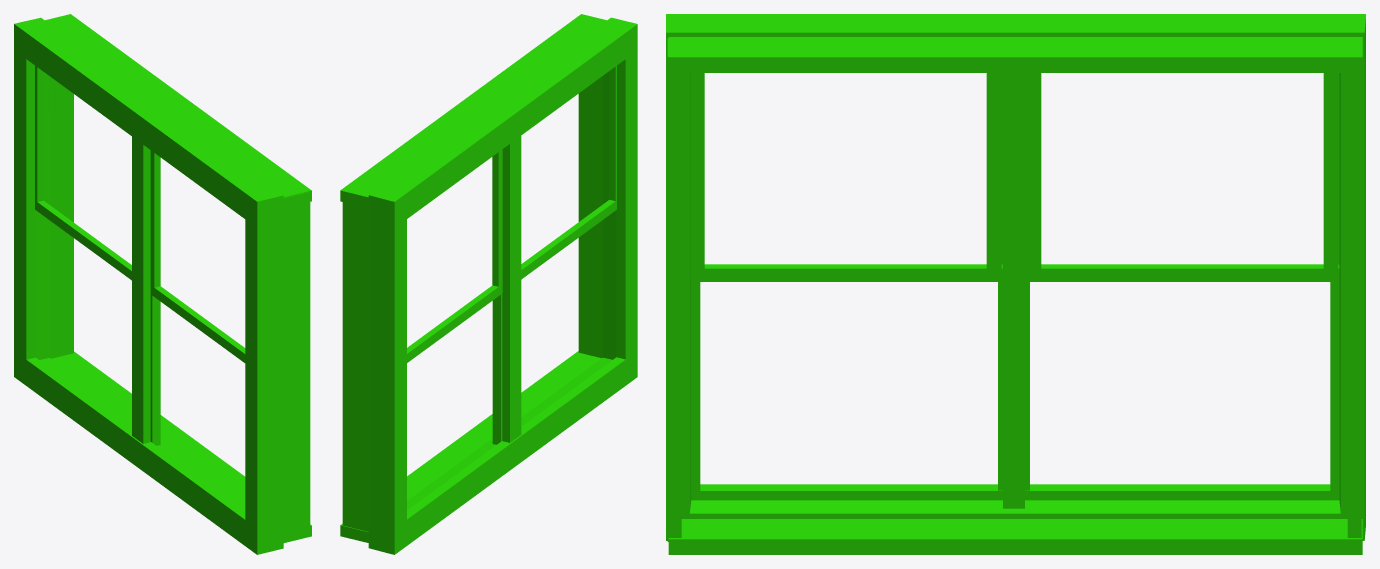
Rendered from Window_C_02B_Lod0.fbx.
3 renders of one model, left to right at view 1: azimuth 30°, elevation 25°; view 2: azimuth 150°, elevation 25°; view 3: azimuth 270°, elevation 25°, orthographic. The views are drawn at different scales.
Parts seen in each view (by area): view 1: Window_C_02B_Lod0; view 2: Window_C_02B_Lod0; view 3: Window_C_02B_Lod0.
Boxes of the visible parts, x1,y1,x2,y2 form: Window_C_02B_Lod0: (14,14,311,554); Window_C_02B_Lod0: (340,14,637,554); Window_C_02B_Lod0: (666,14,1365,554).
Bounding box in the file's own units: 22.84 × 139 × 173.
